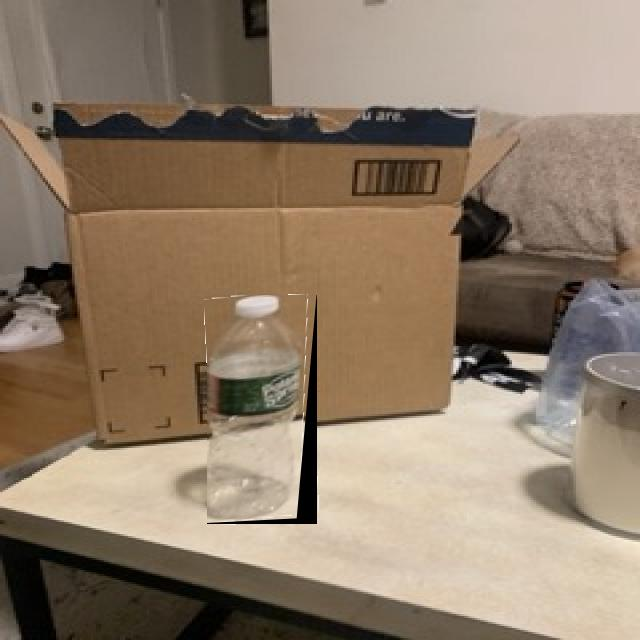water_bottle: (207, 295, 317, 524)
